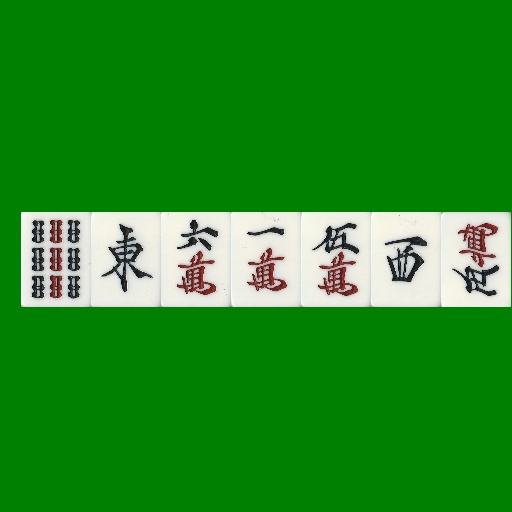1m: (231, 212, 301, 307)
5m: (301, 212, 371, 307), (441, 212, 511, 307)
6m: (161, 212, 231, 307)
9s: (21, 212, 91, 307)
east: (91, 212, 161, 307)
west: (371, 212, 441, 307)
